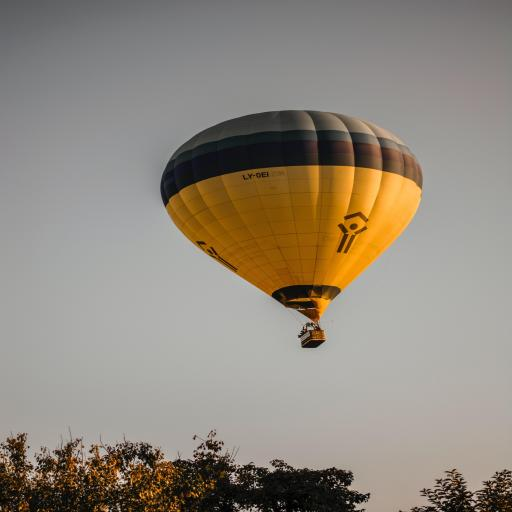hot air ballon: (158, 109, 423, 349)
